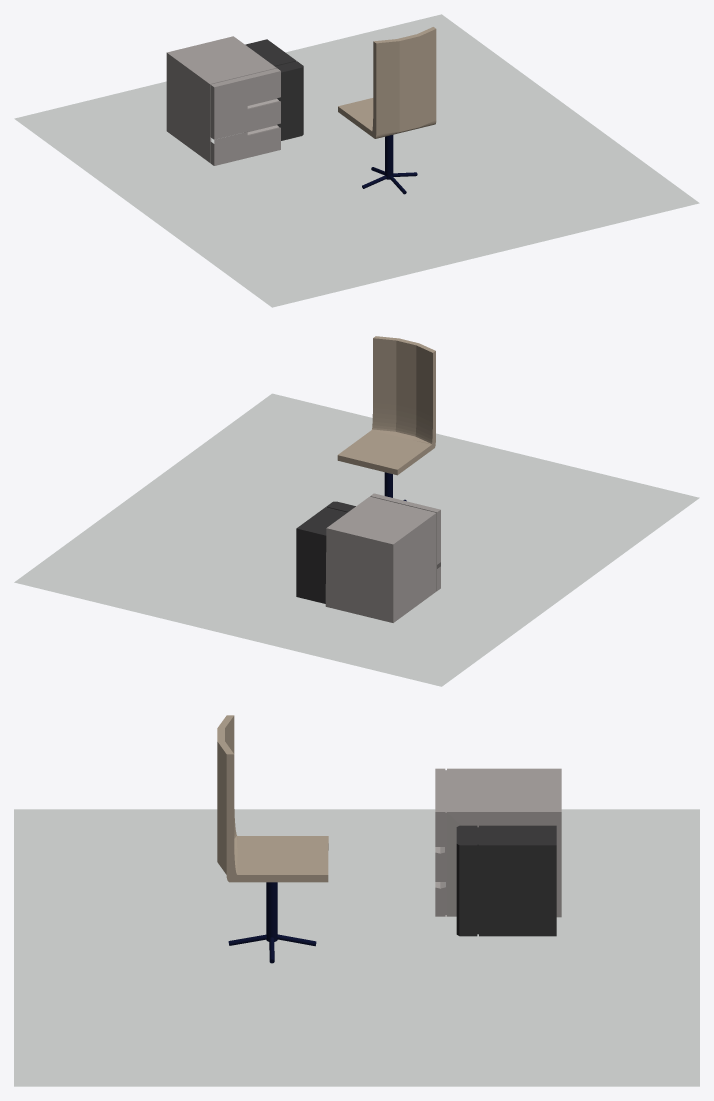
The model's file is Others.glb.
3 views of the same model, one above another, from view 1: azimuth 30°, elevation 25°; view 2: azimuth 150°, elevation 25°; view 3: azimuth 270°, elevation 25° (orthographic). The views are drawn at different scales.
Parts seen in each view (by area): view 1: 평면, 큐브.001, 큐브.104, 큐브.102; view 2: 평면, 큐브.001, 큐브.104, 큐브.102; view 3: 평면, 큐브.102, 큐브.001, 큐브.104, 실린더.009.
Part boxes in pixels (left/top/right/bottom): 평면: left=14, top=14, right=699, bottom=307; 큐브.001: left=166, top=36, right=280, bottom=165; 큐브.104: left=338, top=27, right=436, bottom=138; 큐브.102: left=245, top=39, right=303, bottom=140; 평면: left=14, top=393, right=699, bottom=686; 큐브.001: left=325, top=493, right=440, bottom=622; 큐브.104: left=337, top=336, right=435, bottom=475; 큐브.102: left=296, top=501, right=355, bottom=603; 평면: left=14, top=809, right=699, bottom=1086; 큐브.102: left=456, top=825, right=556, bottom=936; 큐브.001: left=435, top=768, right=561, bottom=917; 큐브.104: left=217, top=715, right=328, bottom=882; 실린더.009: left=266, top=882, right=277, bottom=941.
Bounding box in the file's own units: 14.24 × 5.11 × 14.89.
